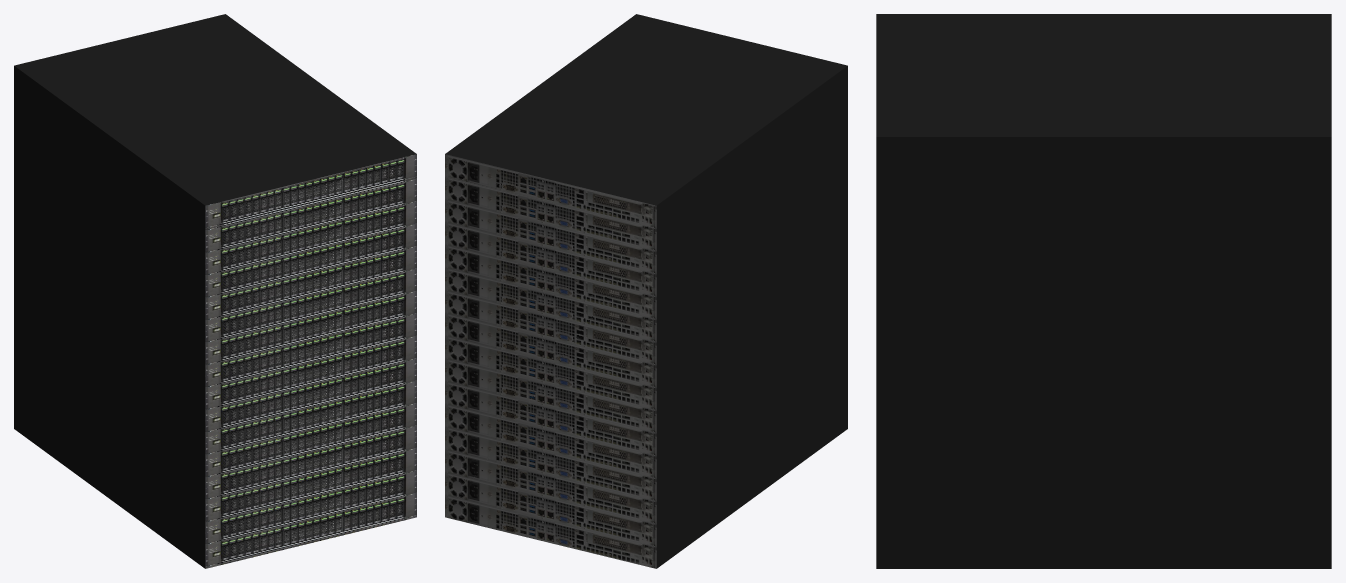
File: EDR16.fbx
The picture shows the model from 3 angles, left to right: view 1: azimuth 30°, elevation 25°; view 2: azimuth 150°, elevation 25°; view 3: azimuth 270°, elevation 25°; orthographic projection. The views are drawn at different scales.
Parts seen in each view (by area): view 1: EDR16; view 2: EDR16; view 3: EDR16.
Part boxes in pixels (left/top/right/bottom): EDR16: left=14, top=14, right=416, bottom=568; EDR16: left=445, top=14, right=847, bottom=568; EDR16: left=876, top=14, right=1331, bottom=568.
Size of the model in its own units: 434 by 712 by 680.
Materials: 3 (2 with a texture image).
